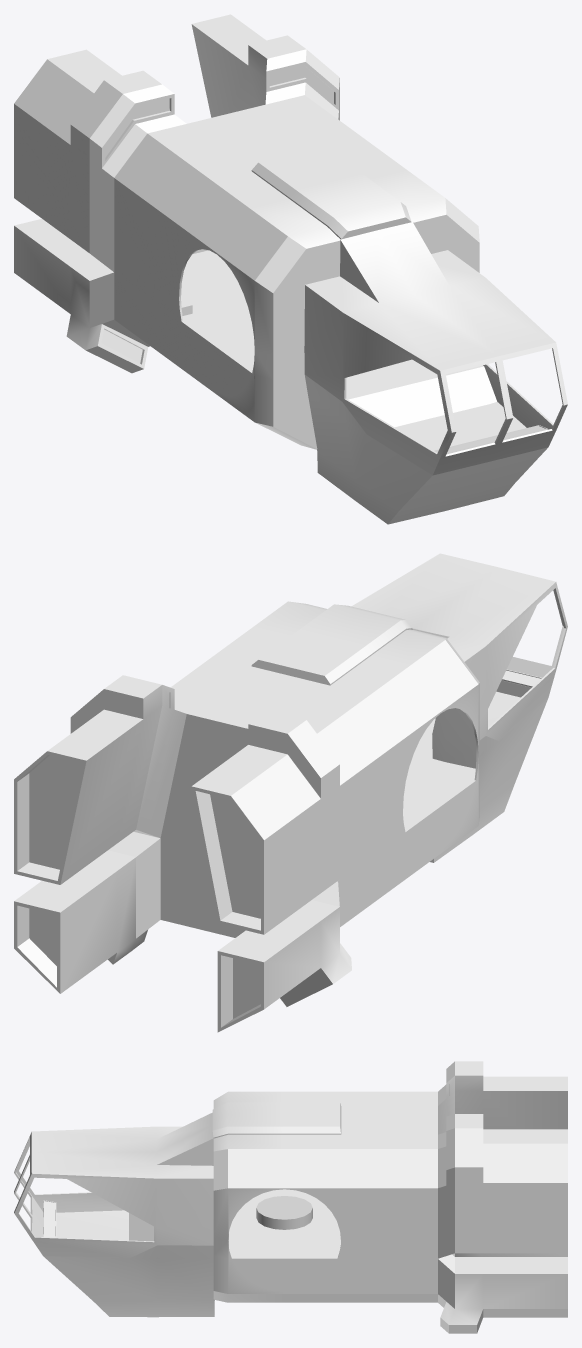
File: NaveTest.fbx
The picture shows the model from 3 angles, top to bottom: view 1: azimuth 30°, elevation 25°; view 2: azimuth 150°, elevation 25°; view 3: azimuth 270°, elevation 25°; orthographic projection. The views are drawn at different scales.
Parts seen in each view (by area): view 1: HabBar.001, HabBar.002, HabBar.008; view 2: HabBar.001, HabBar.002, HabBar.008; view 3: HabBar.001, HabBar.002, Cylinder, HabBar.008.
Boxes of the visible parts, <box> form: HabBar.001: <box>14,14,479,449</box>; HabBar.002: <box>304,222,567,524</box>; HabBar.008: <box>434,425,547,454</box>; HabBar.001: <box>14,601,479,1032</box>; HabBar.002: <box>351,553,567,862</box>; HabBar.008: <box>496,669,541,697</box>; HabBar.001: <box>212,1061,567,1333</box>; HabBar.002: <box>14,1112,214,1317</box>; Cylinder: <box>256,1196,312,1229</box>; HabBar.008: <box>43,1200,56,1237</box>.
Bounding box in the file's own units: 4065 × 4045 × 9800.
1 material, 1 textured.
